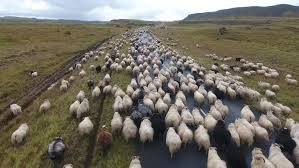sheep: (266, 142, 291, 168), (204, 146, 230, 168), (9, 121, 31, 145), (137, 116, 155, 144), (46, 134, 67, 157), (162, 126, 181, 151), (249, 147, 271, 168), (193, 123, 211, 148), (96, 125, 113, 149), (110, 111, 124, 134), (7, 102, 24, 118), (78, 115, 92, 133), (37, 97, 51, 114), (126, 154, 140, 168)
